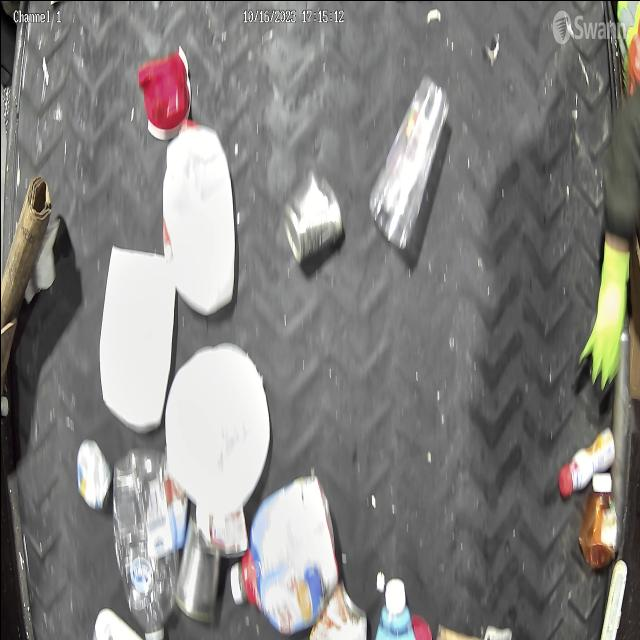can: (174, 512, 224, 622), (284, 181, 342, 270)
milk_jug: (164, 340, 269, 510), (161, 114, 237, 314), (95, 245, 175, 432)
non_white_jug: (228, 467, 339, 633)
plastic_bottle: (109, 446, 178, 640)
